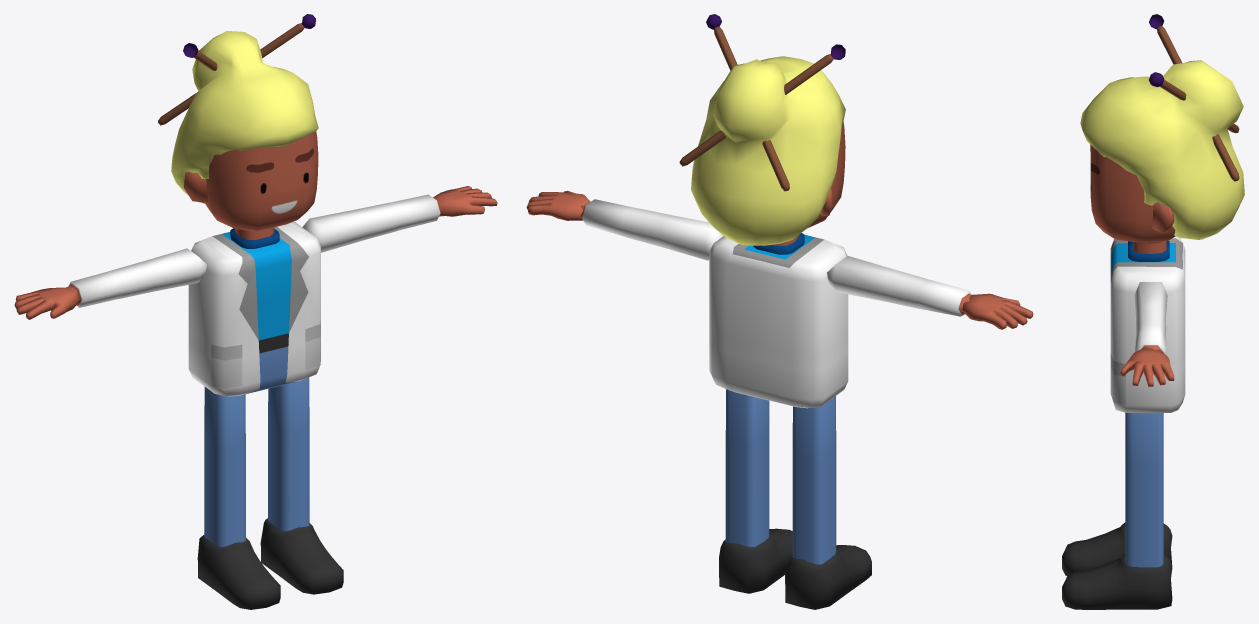
File: NPC_Black01_BlondeHair03.gltf
3 views of the same model, side by side, from view 1: azimuth 30°, elevation 25°; view 2: azimuth 150°, elevation 25°; view 3: azimuth 270°, elevation 25° (orthographic). The views are drawn at different scales.
Visible parts, largest first — view 1: NPC_Corpo_Black1_BlondeHair.003; view 2: NPC_Corpo_Black1_BlondeHair.003; view 3: NPC_Corpo_Black1_BlondeHair.003.
Boxes of the visible parts, x1,y1,x2,y2 form: NPC_Corpo_Black1_BlondeHair.003: (14, 14, 497, 609); NPC_Corpo_Black1_BlondeHair.003: (526, 14, 1033, 609); NPC_Corpo_Black1_BlondeHair.003: (1062, 14, 1244, 609).
Size of the model in its own units: 2.31 by 2.5 by 0.7676.
Materials: 1 (1 with a texture image).
